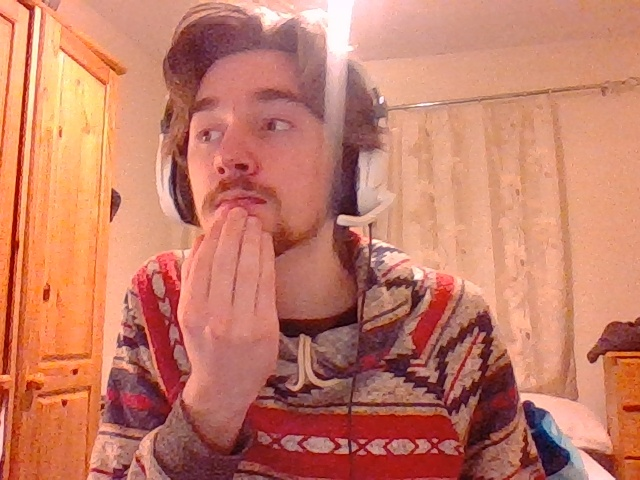thanks: (175, 207, 280, 413)
